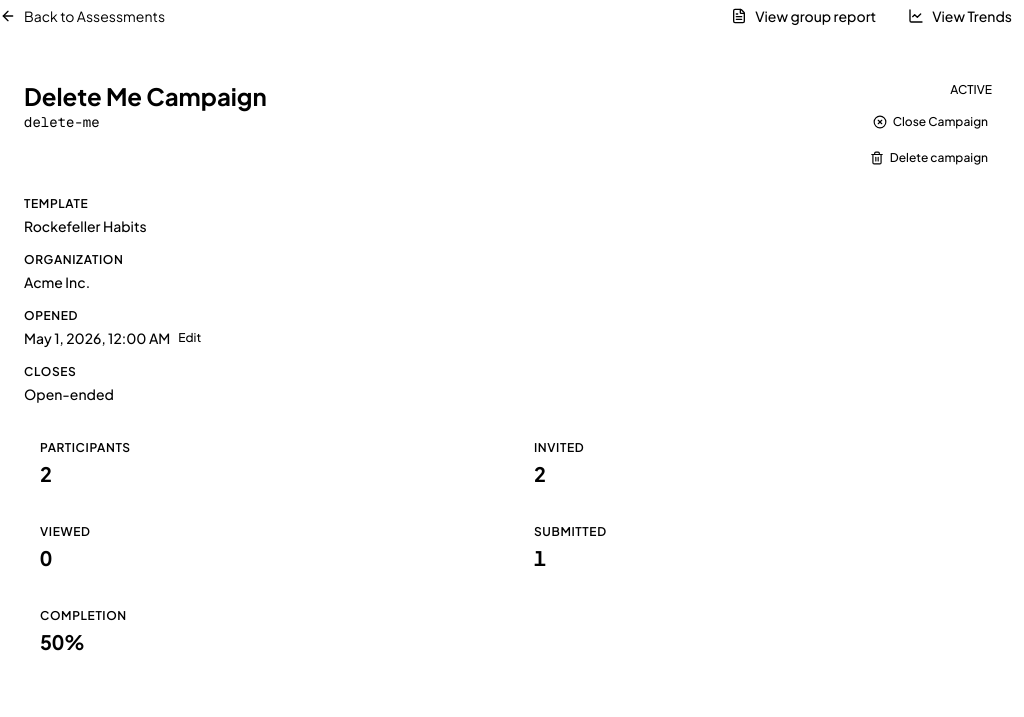
Test: CampaignDetail — Delete campaign dialog › warns invited campaigns about member report access when the portal is enabled
What coordinates should you click on to do the following:
click the button with test id "campaign-delete-btn"
I would click on:
 (929, 158)
Its box is x1=858 y1=144 x2=1000 y2=172.
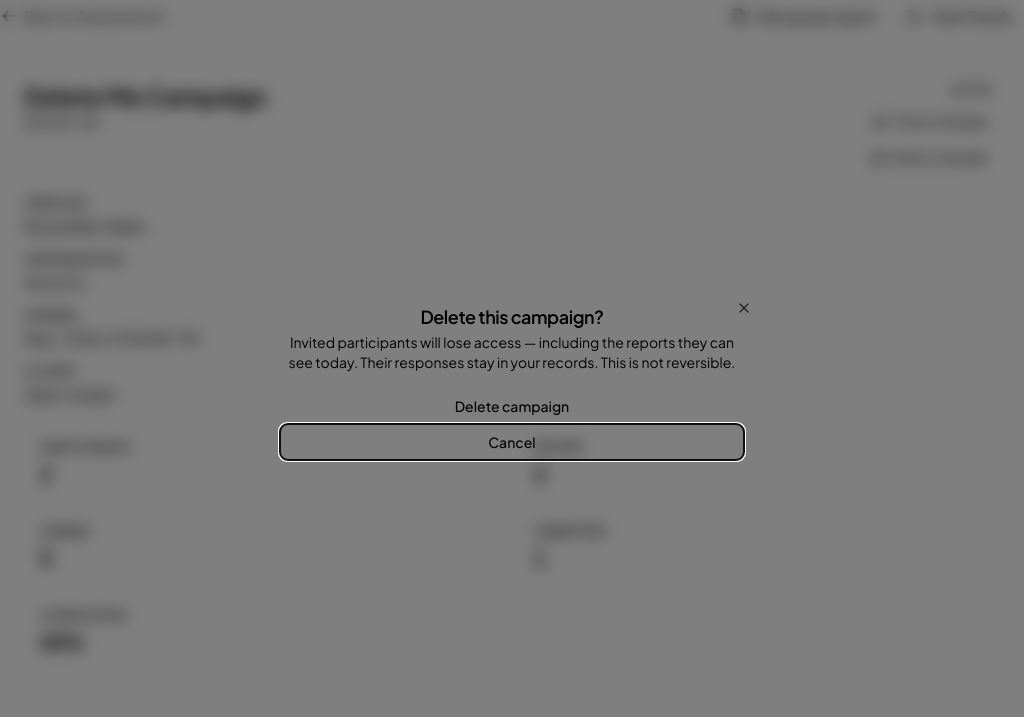
Result: the text "their responses stay in your records" is shown at x1=289 y1=333 x2=735 y2=371
